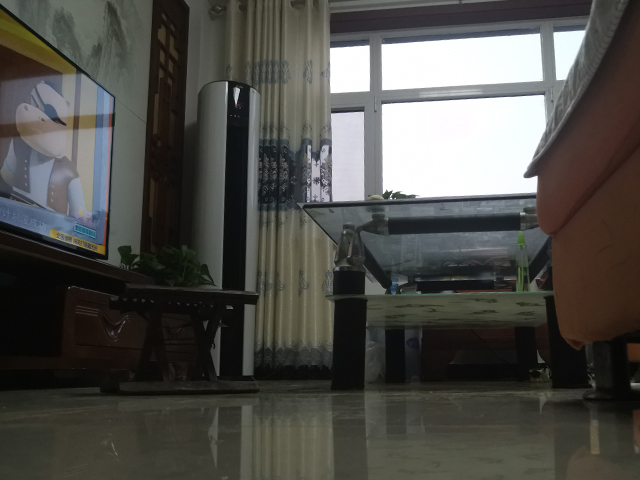cabinet: (1, 229, 210, 389)
curtain: (224, 1, 338, 376)
sofa: (520, 1, 640, 406)
stool: (98, 283, 262, 397)
table: (294, 191, 590, 392)
